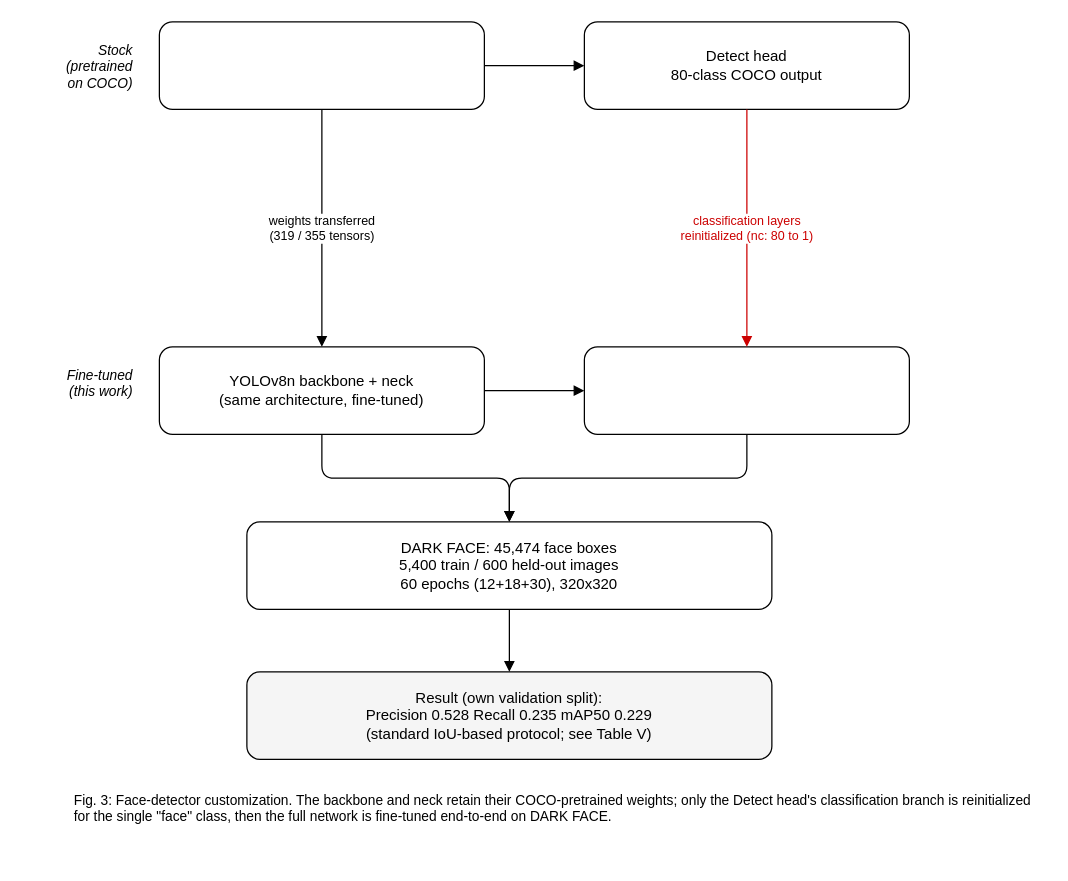
Some shapes in this 1068 by 881 pixel diagram are drawn without their labels. Here are the shapes that lost their labels. From the top down, the centre of each, then its label:
point (321, 65): YOLOv8n backbone + neck (CSPDarknet, C2f, SPPF)
point (746, 390): Detect head single-class "face" output
